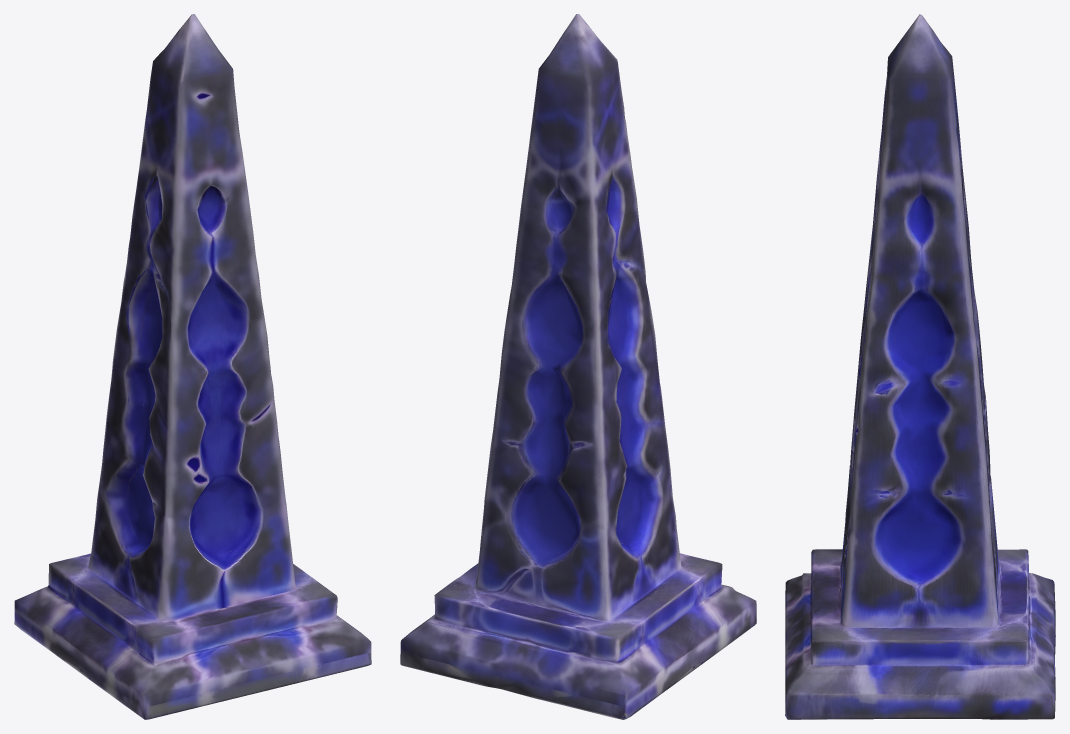
File: dungeon-obelisk-web.glb
The picture shows the model from 3 angles, left to right: view 1: azimuth 30°, elevation 25°; view 2: azimuth 150°, elevation 25°; view 3: azimuth 270°, elevation 25°; orthographic projection. The views are drawn at different scales.
Size of the model in its own units: 0.7551 by 2 by 0.756.
1 material, 1 textured.
